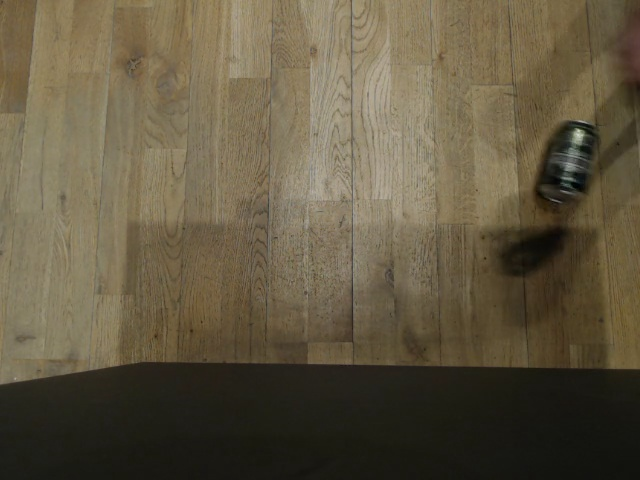beer: (533, 116, 600, 206)
